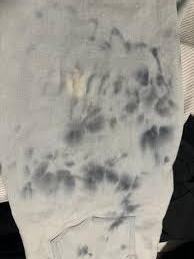ink: (111, 36, 176, 123), (22, 147, 74, 196), (85, 160, 140, 194), (64, 100, 105, 142), (110, 194, 139, 231), (142, 125, 173, 154), (77, 244, 92, 256)
